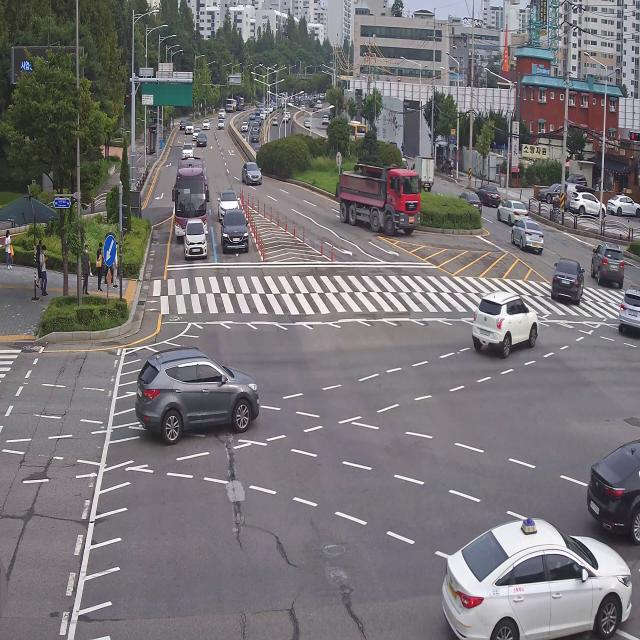Bus: (171, 156, 210, 240)
Car: (426, 470, 640, 640), (131, 332, 266, 456), (578, 408, 640, 550), (472, 286, 542, 358), (545, 246, 589, 306), (173, 207, 213, 270), (210, 202, 254, 258), (504, 215, 553, 260), (594, 230, 626, 290), (616, 282, 640, 342), (236, 153, 266, 189), (496, 193, 526, 225), (455, 186, 484, 217), (218, 188, 241, 222), (474, 180, 500, 201), (196, 127, 210, 153), (180, 141, 196, 162), (202, 117, 213, 131), (320, 113, 329, 126), (217, 116, 224, 132), (273, 116, 279, 125)
Truck: (332, 153, 422, 238), (410, 154, 434, 196)
